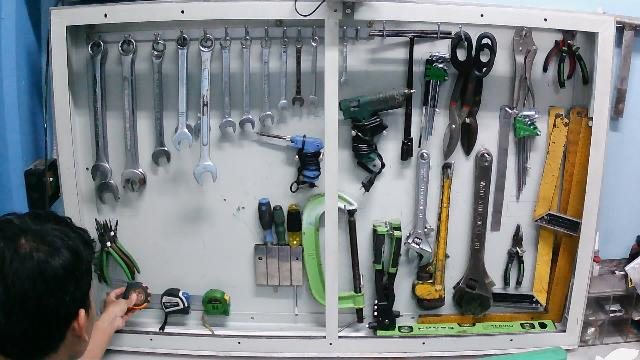meteran: (119, 281, 154, 317)
